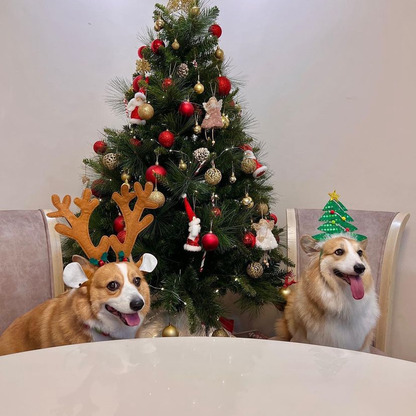Corgi: (12, 255, 170, 358), (283, 234, 378, 371)
